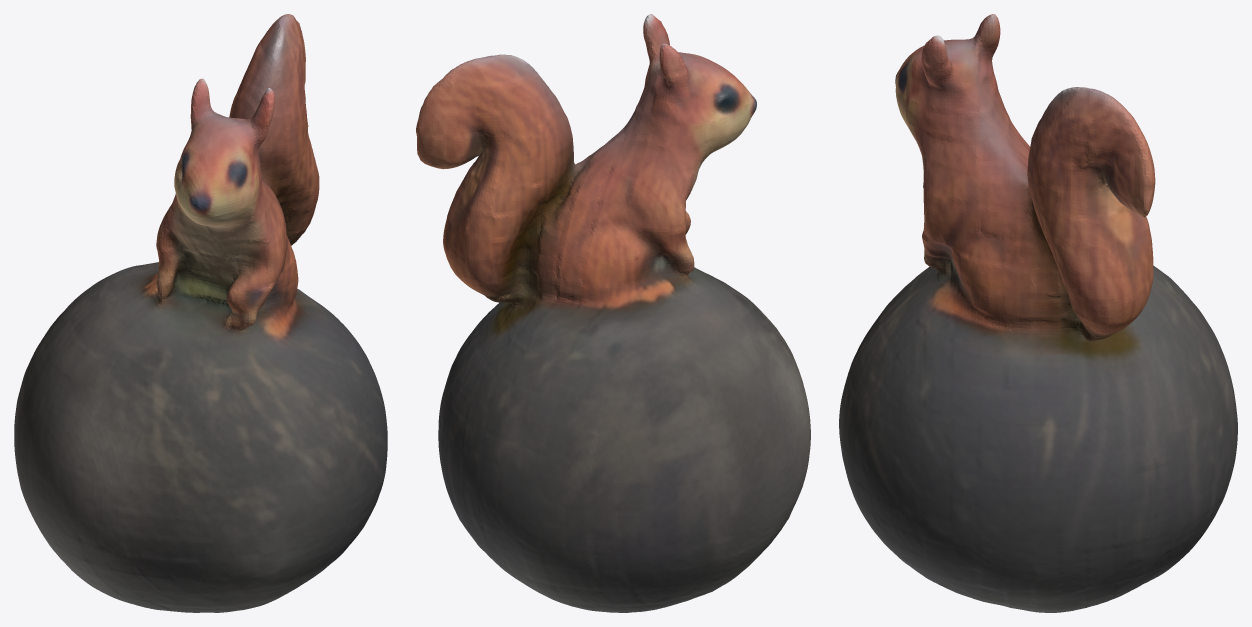
File: tmesh_544.glb
3 renders of one model, left to right at view 1: azimuth 30°, elevation 25°; view 2: azimuth 150°, elevation 25°; view 3: azimuth 270°, elevation 25°, orthographic. The views are drawn at different scales.
Parts seen in each view (by area): view 1: world; view 2: world; view 3: world.
Part boxes in pixels (x1,y1,x2,y2): world: [14, 14, 387, 612]; world: [416, 14, 810, 612]; world: [839, 14, 1237, 612].
Bounding box in the file's own units: 0.9005 × 1.43 × 0.9199.
